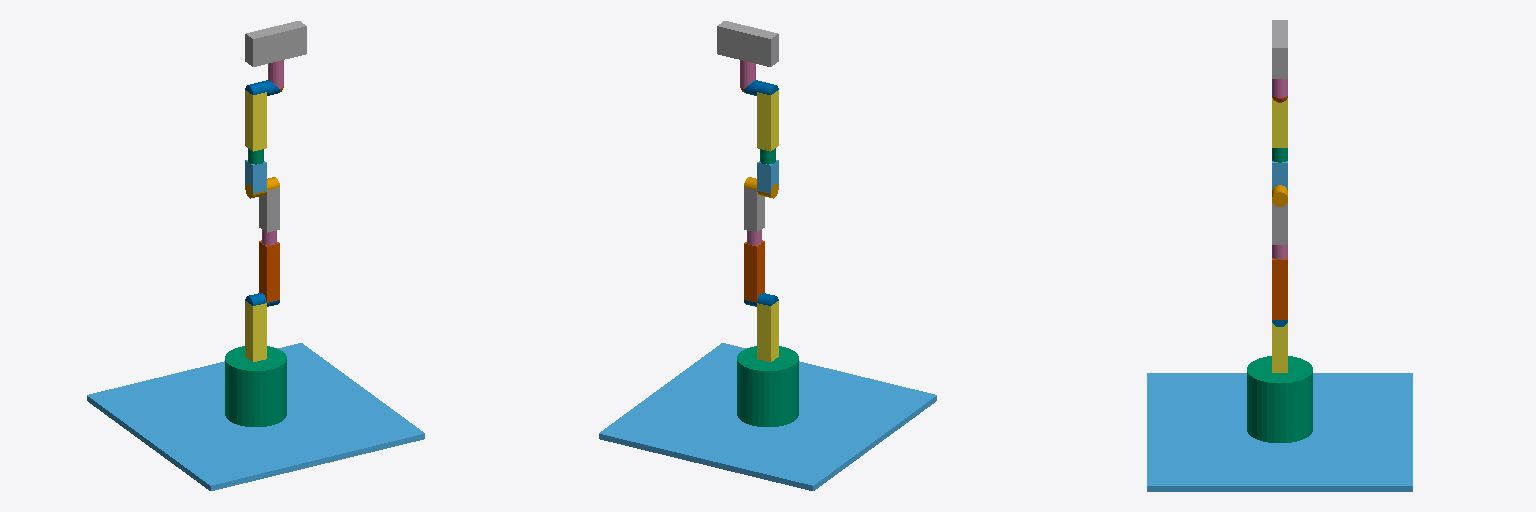
robot.urdf — panda_based_arm:
<?xml version="1.0" encoding="utf-8"?>
<!-- =================================================================================== -->
<!-- |    This document was autogenerated by xacro from panda_based_arm.xacro          | -->
<!-- |    EDITING THIS FILE BY HAND IS NOT RECOMMENDED                                 | -->
<!-- =================================================================================== -->
<robot name="panda_based_arm">
  <link name="origin"/>
  <joint name="origin_joint" type="fixed">
    <parent link="origin"/>
    <child link="base_link"/>
    <origin xyz="0 0 0"/>
  </joint>
  <link name="base_link">
    <visual>
      <geometry>
        <box size="0.4 0.4 0.01"/>
      </geometry>
      <origin xyz="0 0 0.005"/>
    </visual>
  </link>
  <joint name="base-link_1" type="revolute">
    <parent link="base_link"/>
    <child link="link_1"/>
    <origin xyz="0 0 0.01"/>
    <axis xyz="0 0 1"/>
    <limit effort="300" lower="-3.14" upper="3.14" velocity="0.1"/>
  </joint>
  <link name="link_1">
    <visual>
      <geometry>
        <cylinder length="0.1" radius="0.05"/>
      </geometry>
      <origin xyz="0 0 0.05"/>
    </visual>
  </link>
  <joint name="link_1-link_2" type="fixed">
    <parent link="link_1"/>
    <child link="link_2"/>
    <origin xyz="0 0 0.1"/>
  </joint>
  <link name="link_2">
    <visual>
      <geometry>
        <box size="0.025 0.025 0.1"/>
      </geometry>
      <origin rpy="0 0 0" xyz="0 0 0.05"/>
    </visual>
  </link>
  <joint name="link_2-link_3" type="revolute">
    <parent link="link_2"/>
    <child link="link_3"/>
    <origin xyz="0.0125 0 0.1"/>
    <axis xyz="1 0 0"/>
    <limit effort="300" lower="0" upper="1.57" velocity="0.1"/>
  </joint>
  <link name="link_3">
    <visual>
      <geometry>
        <cylinder length="0.05" radius="0.0125"/>
      </geometry>
      <origin rpy="0 1.57 0" xyz="0 0 0"/>
    </visual>
  </link>
  <joint name="link_3-link_4" type="fixed">
    <parent link="link_3"/>
    <child link="link_4"/>
    <origin xyz="0 0 0"/>
  </joint>
  <link name="link_4">
    <visual>
      <geometry>
        <box size="0.025 0.025 0.1"/>
      </geometry>
      <origin rpy="0 0 0" xyz="0.0125 0 0.05"/>
    </visual>
  </link>
  <joint name="link_4-link_5" type="revolute">
    <parent link="link_4"/>
    <child link="link_5"/>
    <origin xyz="0.0125 0 0.1"/>
    <axis xyz="0 0 1"/>
    <limit effort="300" lower="-1.57" upper="1.57" velocity="0.1"/>
  </joint>
  <link name="link_5">
    <visual>
      <geometry>
        <cylinder length="0.025" radius="0.0125"/>
      </geometry>
      <origin rpy="0 0 0" xyz="0 0 0.0125"/>
    </visual>
  </link>
  <joint name="link_5-link_6" type="fixed">
    <parent link="link_5"/>
    <child link="link_6"/>
    <origin xyz="0 0 0.025"/>
  </joint>
  <link name="link_6">
    <visual>
      <geometry>
        <box size="0.025 0.025 0.075"/>
      </geometry>
      <origin rpy="0 0 0" xyz="0 0 0.0375"/>
    </visual>
  </link>
  <joint name="link_6-link_7" type="revolute">
    <parent link="link_6"/>
    <child link="link_7"/>
    <origin xyz="-0.0125 0 0.075"/>
    <axis xyz="1 0 0"/>
    <limit effort="300" lower="-1.57" upper="1.57" velocity="0.1"/>
  </joint>
  <link name="link_7">
    <visual>
      <geometry>
        <cylinder length="0.05" radius="0.0125"/>
      </geometry>
      <origin rpy="0 1.57 0" xyz="0 0 0"/>
    </visual>
  </link>
  <joint name="link_7-link_8" type="fixed">
    <parent link="link_7"/>
    <child link="link_8"/>
    <origin xyz="0 0 0"/>
  </joint>
  <link name="link_8">
    <visual>
      <geometry>
        <box size="0.025 0.025 0.05"/>
      </geometry>
      <origin rpy="0 0 0" xyz="-0.0125 0 0.025"/>
    </visual>
  </link>
  <joint name="link_8-link_9" type="revolute">
    <parent link="link_8"/>
    <child link="link_9"/>
    <origin xyz="-0.0125 0 0.05"/>
    <axis xyz="0 0 1"/>
    <limit effort="300" lower="-1.57" upper="1.57" velocity="0.1"/>
  </joint>
  <link name="link_9">
    <visual>
      <geometry>
        <cylinder length="0.025" radius="0.0125"/>
      </geometry>
      <origin rpy="0 0 0" xyz="0 0 0.0125"/>
    </visual>
  </link>
  <joint name="link_9-link_10" type="fixed">
    <parent link="link_9"/>
    <child link="link_10"/>
    <origin xyz="0 0 0.025"/>
  </joint>
  <link name="link_10">
    <visual>
      <geometry>
        <box size="0.025 0.025 0.1"/>
      </geometry>
      <origin rpy="0 0 0" xyz="0 0 0.05"/>
    </visual>
  </link>
  <joint name="link_10-link_11" type="revolute">
    <parent link="link_10"/>
    <child link="link_11"/>
    <origin xyz="0.0125 0 0.1"/>
    <axis xyz="1 0 0"/>
    <limit effort="300" lower="-1.57" upper="1.57" velocity="0.1"/>
  </joint>
  <link name="link_11">
    <visual>
      <geometry>
        <cylinder length="0.05" radius="0.0125"/>
      </geometry>
      <origin rpy="0 1.57 0" xyz="0 0 0"/>
    </visual>
  </link>
  <joint name="link_11-link_12" type="fixed">
    <parent link="link_11"/>
    <child link="link_12"/>
    <origin xyz="0.025 0 0"/>
  </joint>
  <link name="link_12">
    <visual>
      <geometry>
        <sphere radius="0.0125"/>
      </geometry>
      <origin xyz="0 0 0"/>
    </visual>
  </link>
  <joint name="link_12-link_13" type="revolute">
    <parent link="link_12"/>
    <child link="link_13"/>
    <origin xyz="0 0 0"/>
    <axis xyz="0 0 1"/>
    <limit effort="300" lower="-3.14" upper="3.14" velocity="0.1"/>
  </joint>
  <link name="link_13">
    <visual>
      <geometry>
        <cylinder length="0.05" radius="0.0125"/>
      </geometry>
      <origin rpy="0 0 0" xyz="0 0 0.025"/>
    </visual>
  </link>
  <joint name="link_13-hand" type="fixed">
    <parent link="link_13"/>
    <child link="hand"/>
    <origin xyz="0 0 0.05"/>
  </joint>
  <link name="hand">
    <visual>
      <geometry>
        <box size="0.1 0.025 0.05"/>
      </geometry>
      <origin xyz="0 0 0.025"/>
    </visual>
  </link>
</robot>

--- Facts derived from the render (not from the file) ---
The picture shows the robot from 3 angles, left to right: view 1: azimuth 30°, elevation 25°; view 2: azimuth 150°, elevation 25°; view 3: azimuth 270°, elevation 25°; orthographic projection.
Robot: panda_based_arm — 16 links, 15 joints (7 revolute, 8 fixed); root link origin; default pose: every joint at zero.
Visible links, largest first — view 1: base_link, link_1, hand, link_10, link_2, link_4, link_6, link_8; view 2: base_link, link_1, hand, link_10, link_2, link_4, link_6, link_8; view 3: base_link, link_1, link_4, hand, link_2, link_10, link_6.
Link boxes in pixels (bbox=[...]): base_link: bbox=[87, 343, 424, 490]; link_1: bbox=[225, 346, 286, 426]; hand: bbox=[245, 21, 306, 66]; link_10: bbox=[245, 90, 266, 151]; link_2: bbox=[245, 301, 266, 361]; link_4: bbox=[259, 240, 279, 302]; link_6: bbox=[259, 187, 279, 232]; link_8: bbox=[245, 160, 266, 193]; base_link: bbox=[599, 343, 936, 490]; link_1: bbox=[737, 346, 798, 426]; hand: bbox=[717, 21, 778, 66]; link_10: bbox=[757, 90, 778, 151]; link_2: bbox=[757, 301, 778, 361]; link_4: bbox=[744, 240, 764, 302]; link_6: bbox=[744, 187, 764, 232]; link_8: bbox=[757, 160, 778, 193]; base_link: bbox=[1147, 373, 1412, 491]; link_1: bbox=[1247, 356, 1312, 442]; link_4: bbox=[1272, 258, 1287, 319]; hand: bbox=[1272, 20, 1287, 78]; link_2: bbox=[1272, 323, 1287, 372]; link_10: bbox=[1272, 98, 1287, 147]; link_6: bbox=[1272, 203, 1287, 244].
Size in the robot's own frame: 0.4 by 0.4 by 0.685 metres.
Geometry: primitives only (box / cylinder / sphere), no mesh files.
